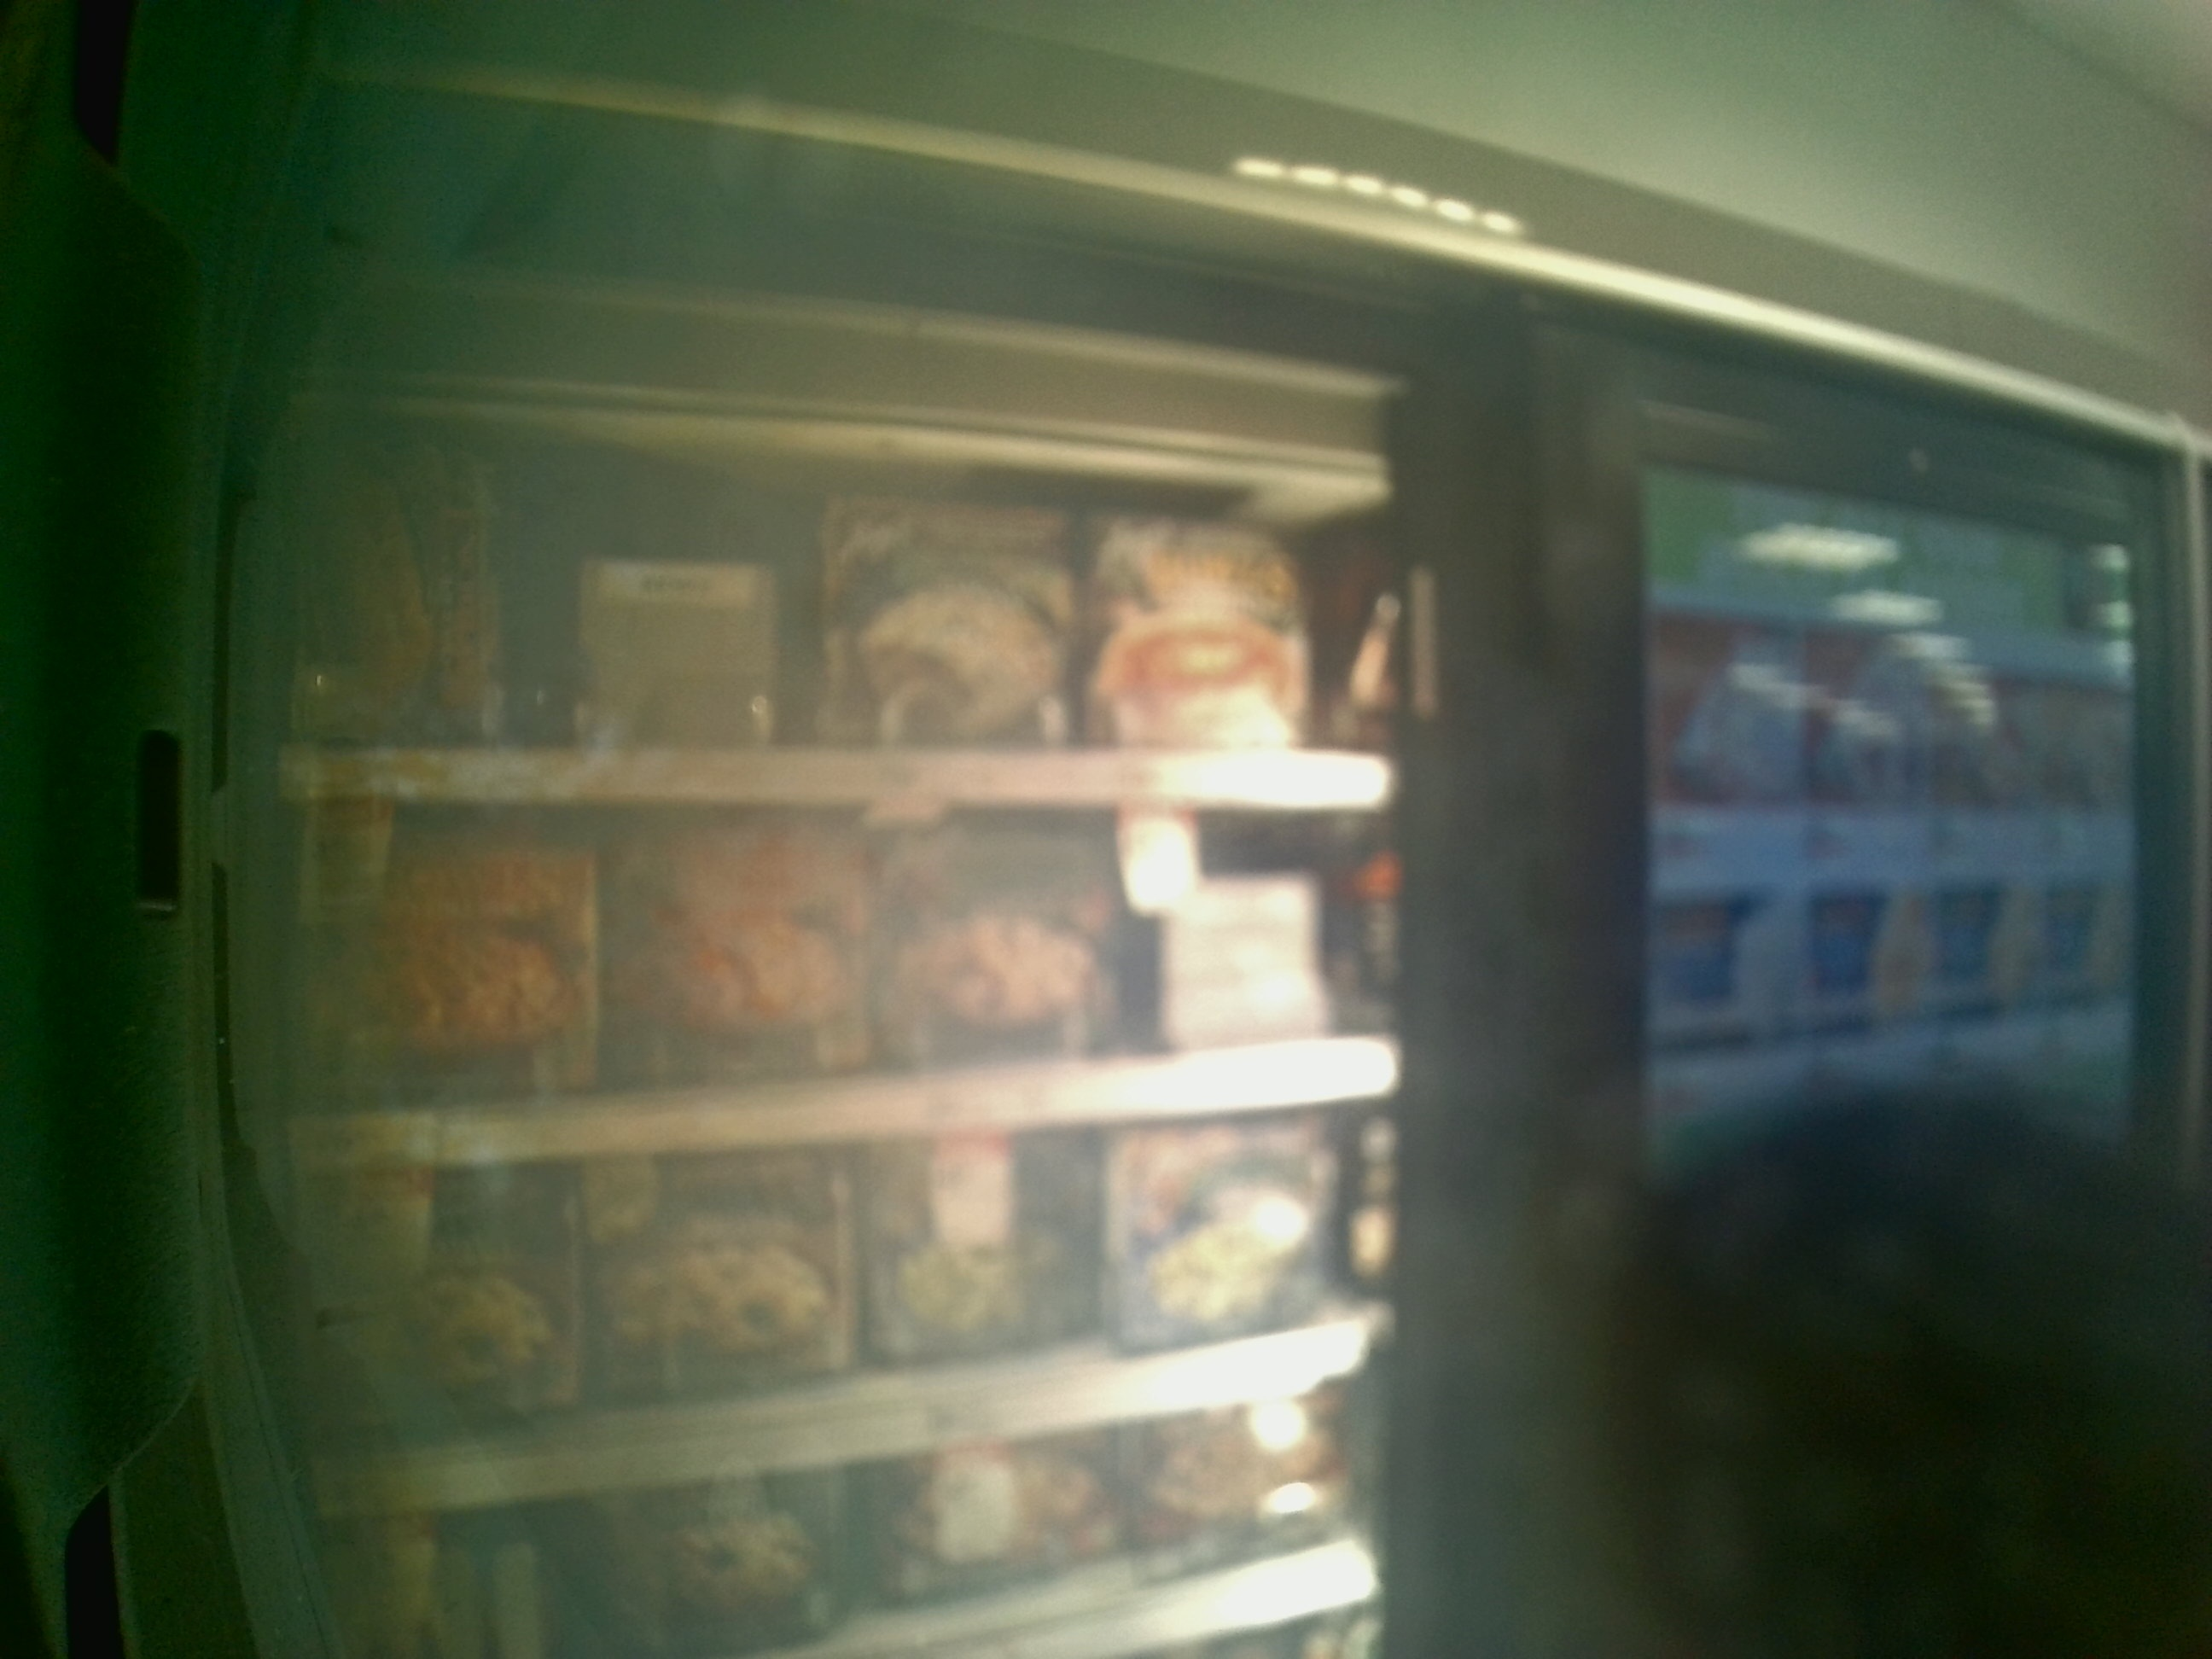frozen-food-shelf: (268, 803, 1446, 1199), (270, 425, 1447, 812)
